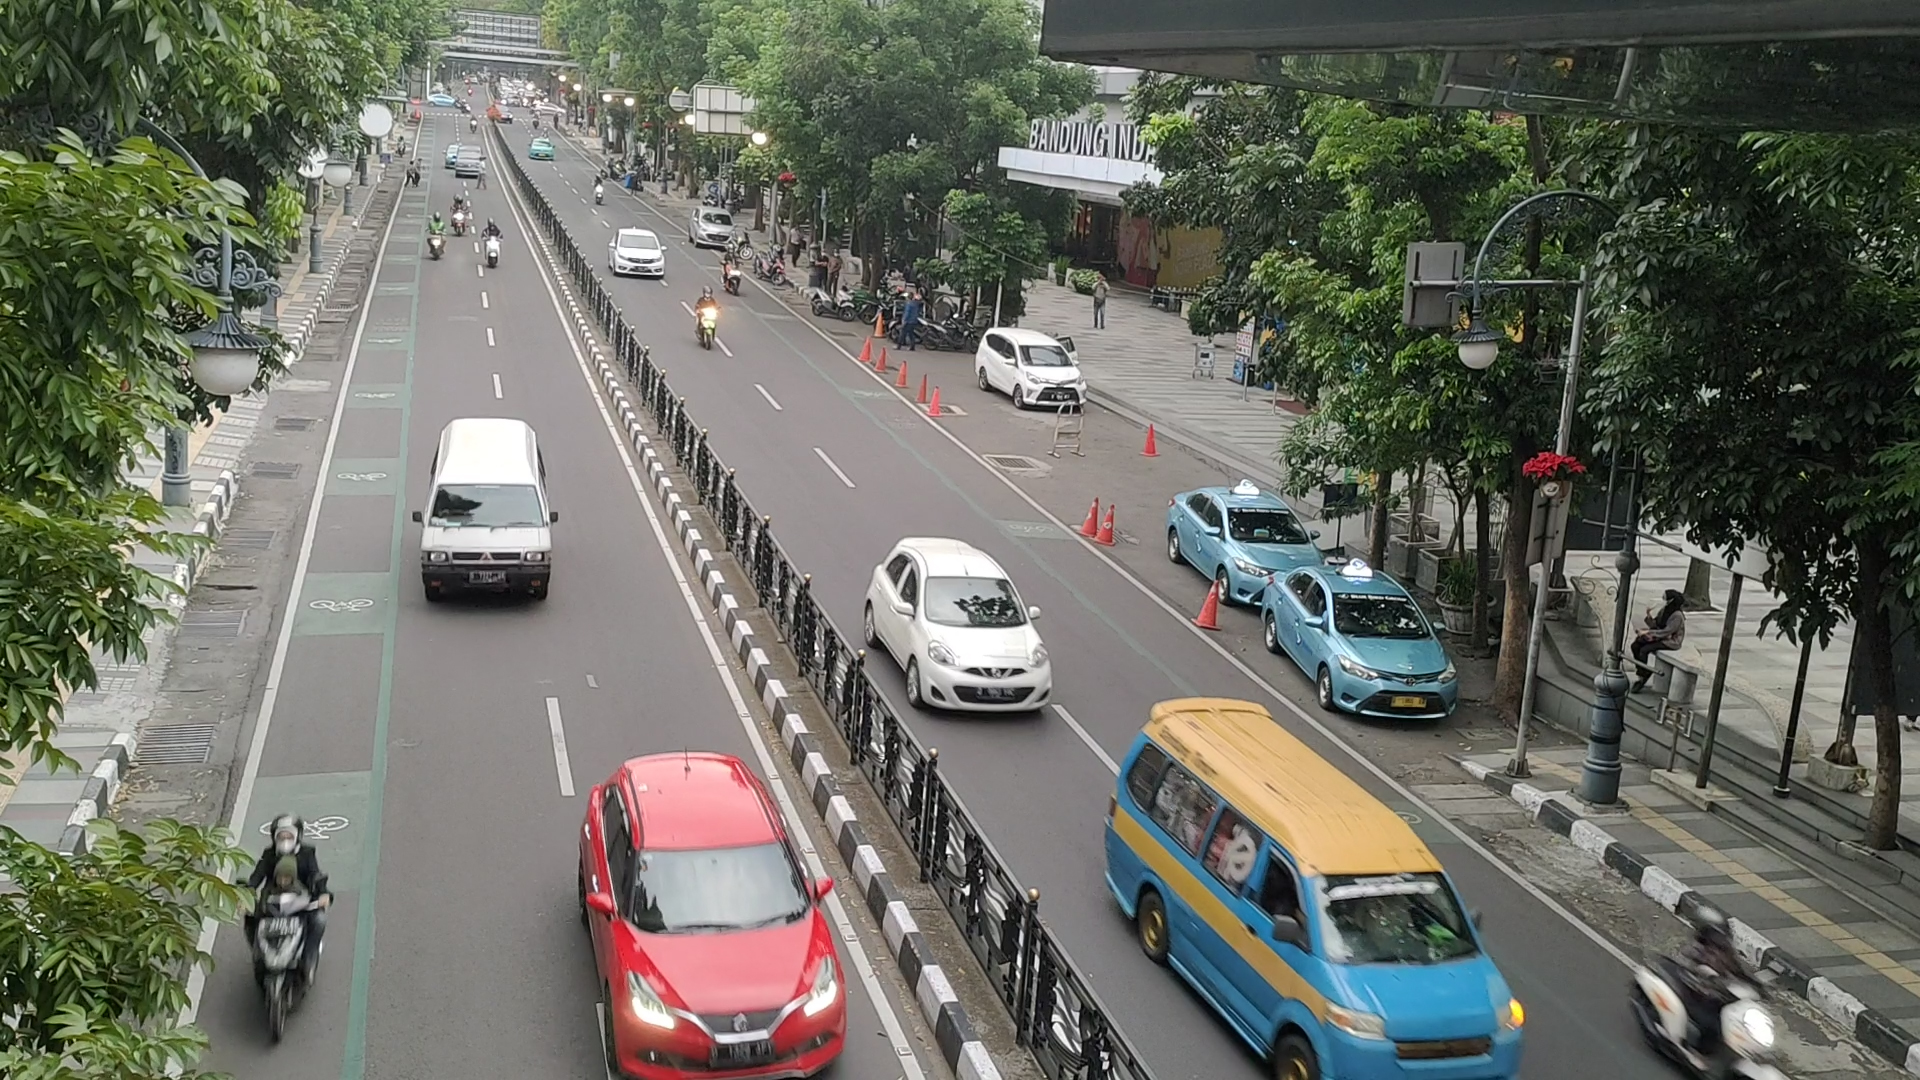mobil: (593, 843, 847, 1080), (1273, 864, 1534, 1080), (902, 567, 1058, 723), (1316, 588, 1462, 723), (418, 477, 554, 613), (1010, 340, 1088, 417)
motor: (233, 800, 347, 1058)
